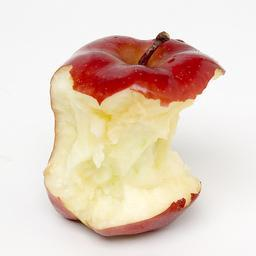apple: (42, 30, 225, 233)
